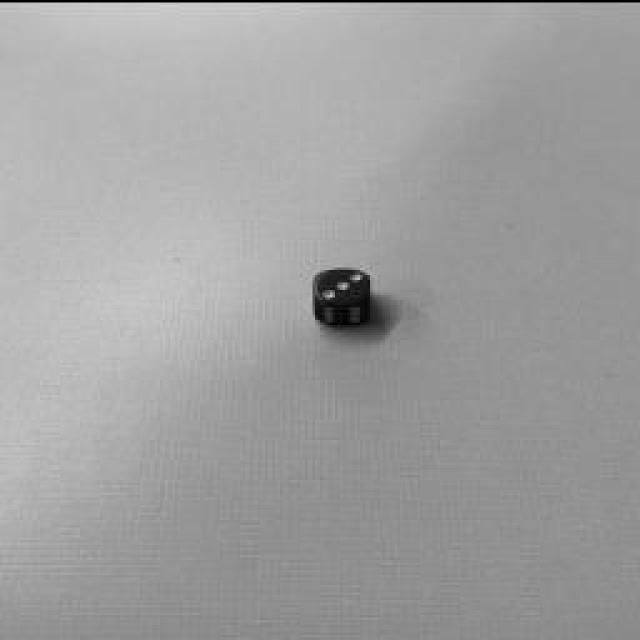dice_3: (314, 268, 371, 302)
